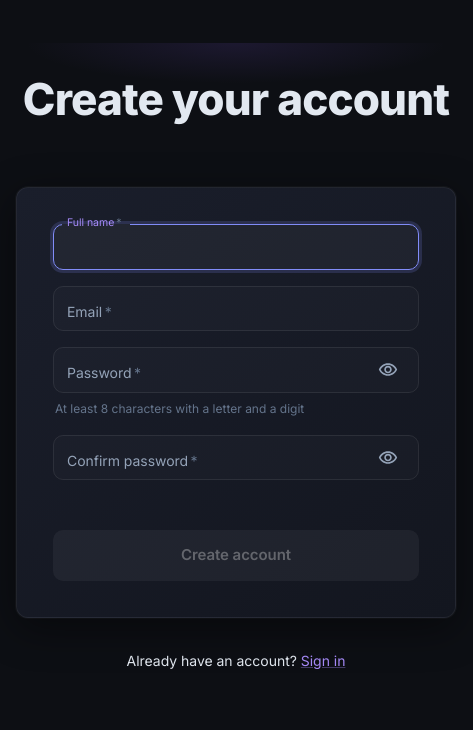
RegisterPage › shows generic error message for non-ApiError failures
The width and height of the screenshot is (473, 730).
Type "Alice" into the field labelled "Full name *" at (236, 247), box x1=53 y1=224 x2=419 y2=270
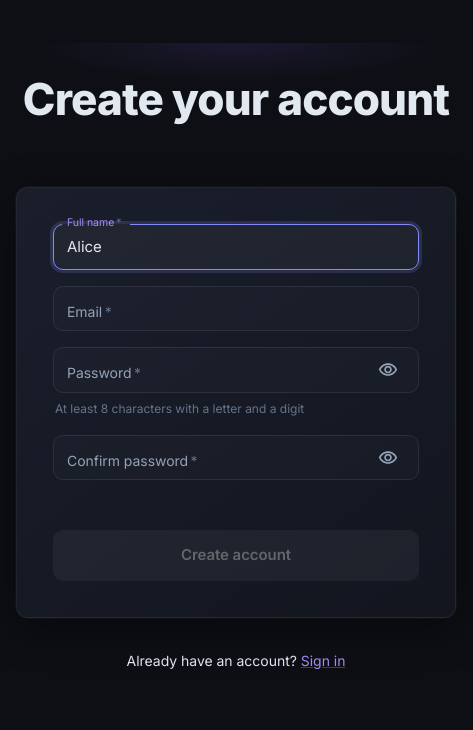
Type "alice@example.com" into the field labelled "Email *" at (236, 309), box x1=53 y1=286 x2=419 y2=331
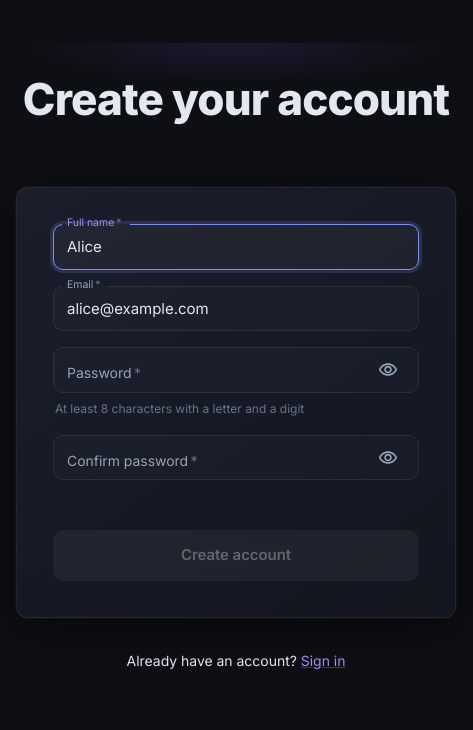
Type "Password1!" into the password field labelled "Password *" at (209, 370), box x1=53 y1=347 x2=365 y2=393
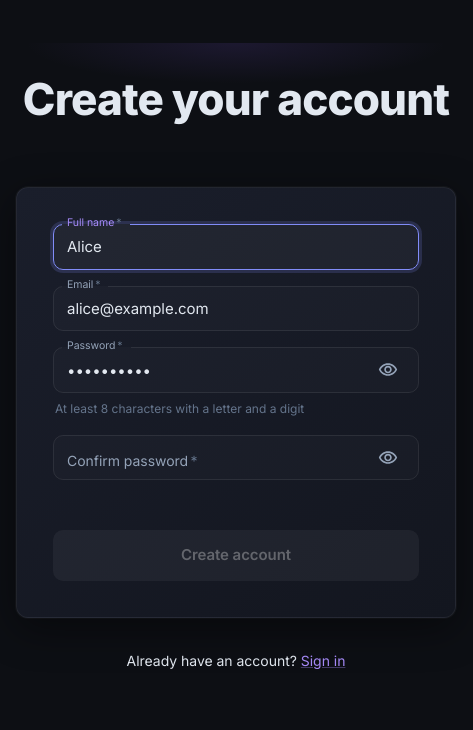
Type "Password1!" into the password field labelled "Confirm password *" at (209, 458), box x1=53 y1=435 x2=365 y2=480
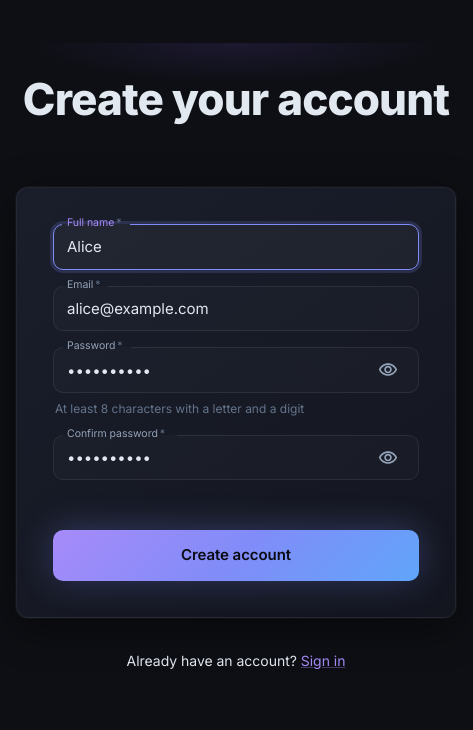
Click the button "Create account" at (236, 555), box x1=53 y1=530 x2=419 y2=581
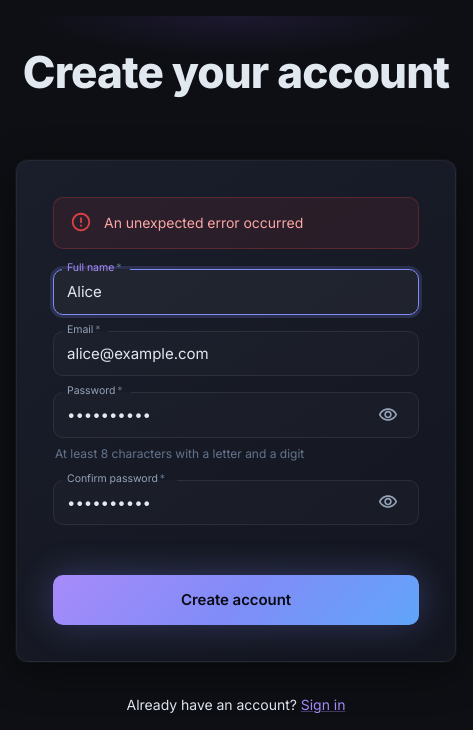
Expected: the text "An unexpected error occurred" is shown, x1=104 y1=214 x2=303 y2=231
